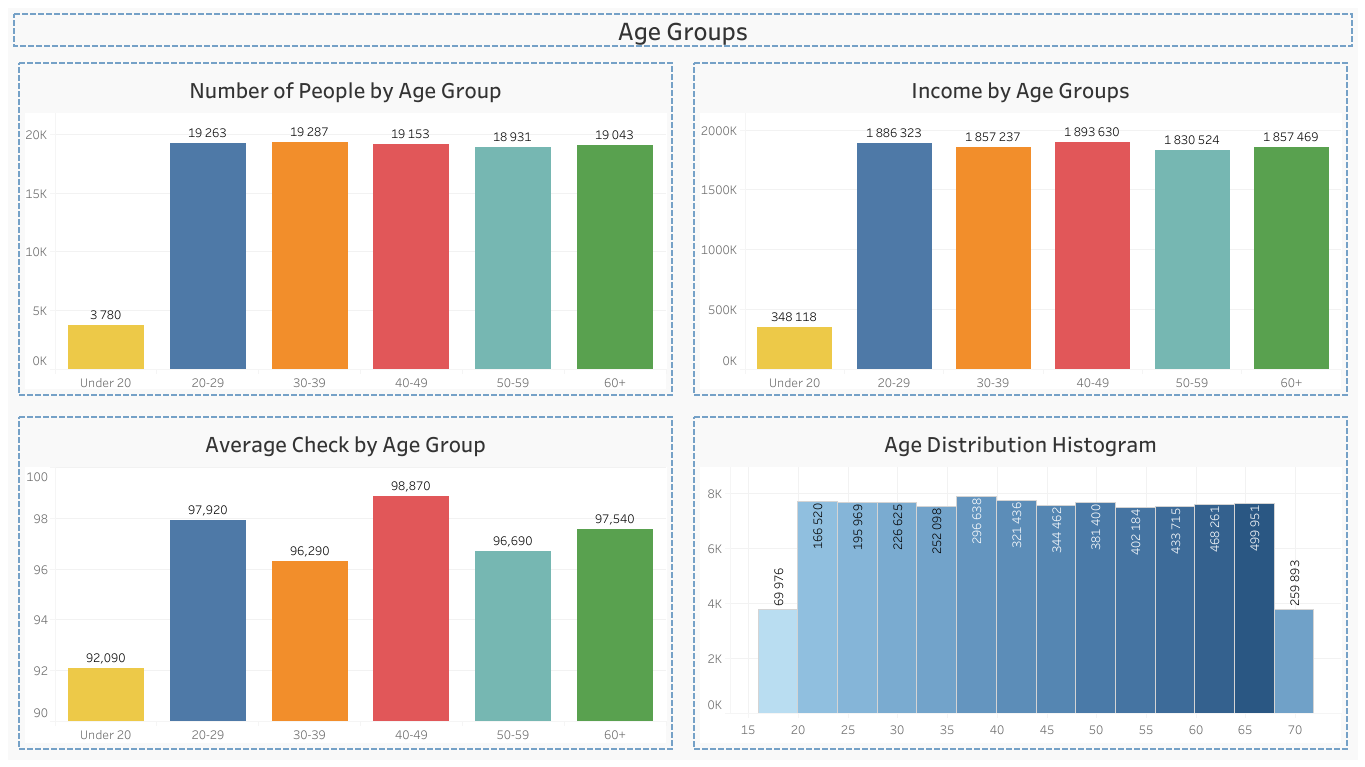

Layout of this report page (visuals, bound fields, positions):
{"tool":"tableau","page":{"name":"Age Groups","canvas":[1366,768],"ordinal":0},"visuals":[{"type":"title","box":[8,8,1350,44]},{"type":"worksheet","title":"age_groups_num","mark":"Automatic","rows":["Calculation_1055569051930725"],"cols":["Calculation_1055569033293923"],"box":[8,52,675,354]},{"type":"worksheet","title":"age_groups_income","mark":"Automatic","rows":["Calculation_1055569032224863"],"cols":["Calculation_1055569033293923"],"box":[683,52,675,354]},{"type":"worksheet","title":"age_group_avg_check","mark":"Automatic","rows":["Calculation_1055569032396896"],"cols":["Calculation_1055569033293923"],"box":[8,406,675,354]},{"type":"worksheet","title":"age_histogram","mark":"Automatic","rows":["age"],"cols":["age (bin)"],"box":[683,406,675,354]}]}

Visuals, with their boxes in screenshot pixels (x1, y1, x2, y2), scaled from the page's 1366x768 canvas onto the 1365x767 screenshot:
title: <box>8,8,1357,52</box>
"age_groups_num" worksheet: <box>8,52,682,405</box>
"age_groups_income" worksheet: <box>682,52,1357,405</box>
"age_group_avg_check" worksheet: <box>8,405,682,759</box>
"age_histogram" worksheet: <box>682,405,1357,759</box>
